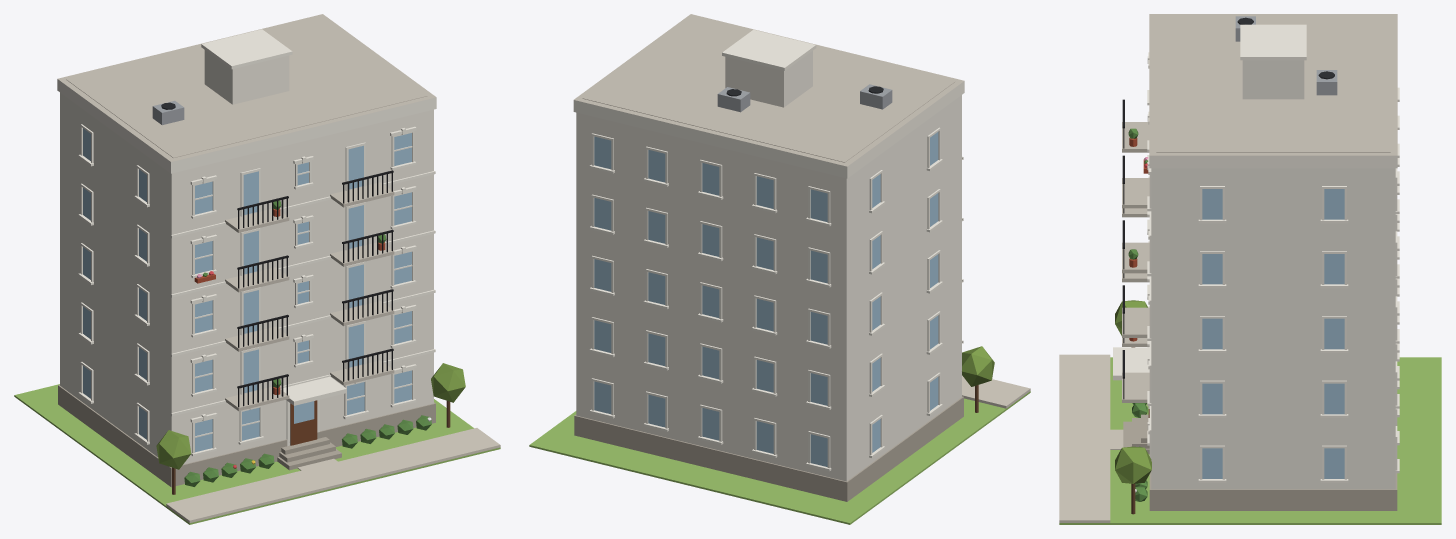
File: Apartman_1_2_Hafif.fbx
3 renders of one model, left to right at view 1: azimuth 30°, elevation 25°; view 2: azimuth 150°, elevation 25°; view 3: azimuth 270°, elevation 25°, orthographic. The views are drawn at different scales.
Parts seen in each view (by area): view 1: Apartman_1_2_Hafif; view 2: Apartman_1_2_Hafif; view 3: Apartman_1_2_Hafif.
Part boxes in pixels (x1,y1,x2,y2): Apartman_1_2_Hafif: [14, 14, 500, 524]; Apartman_1_2_Hafif: [529, 14, 1030, 524]; Apartman_1_2_Hafif: [1059, 14, 1441, 524].
Size of the model in its own units: 15.34 by 17.33 by 14.96.
